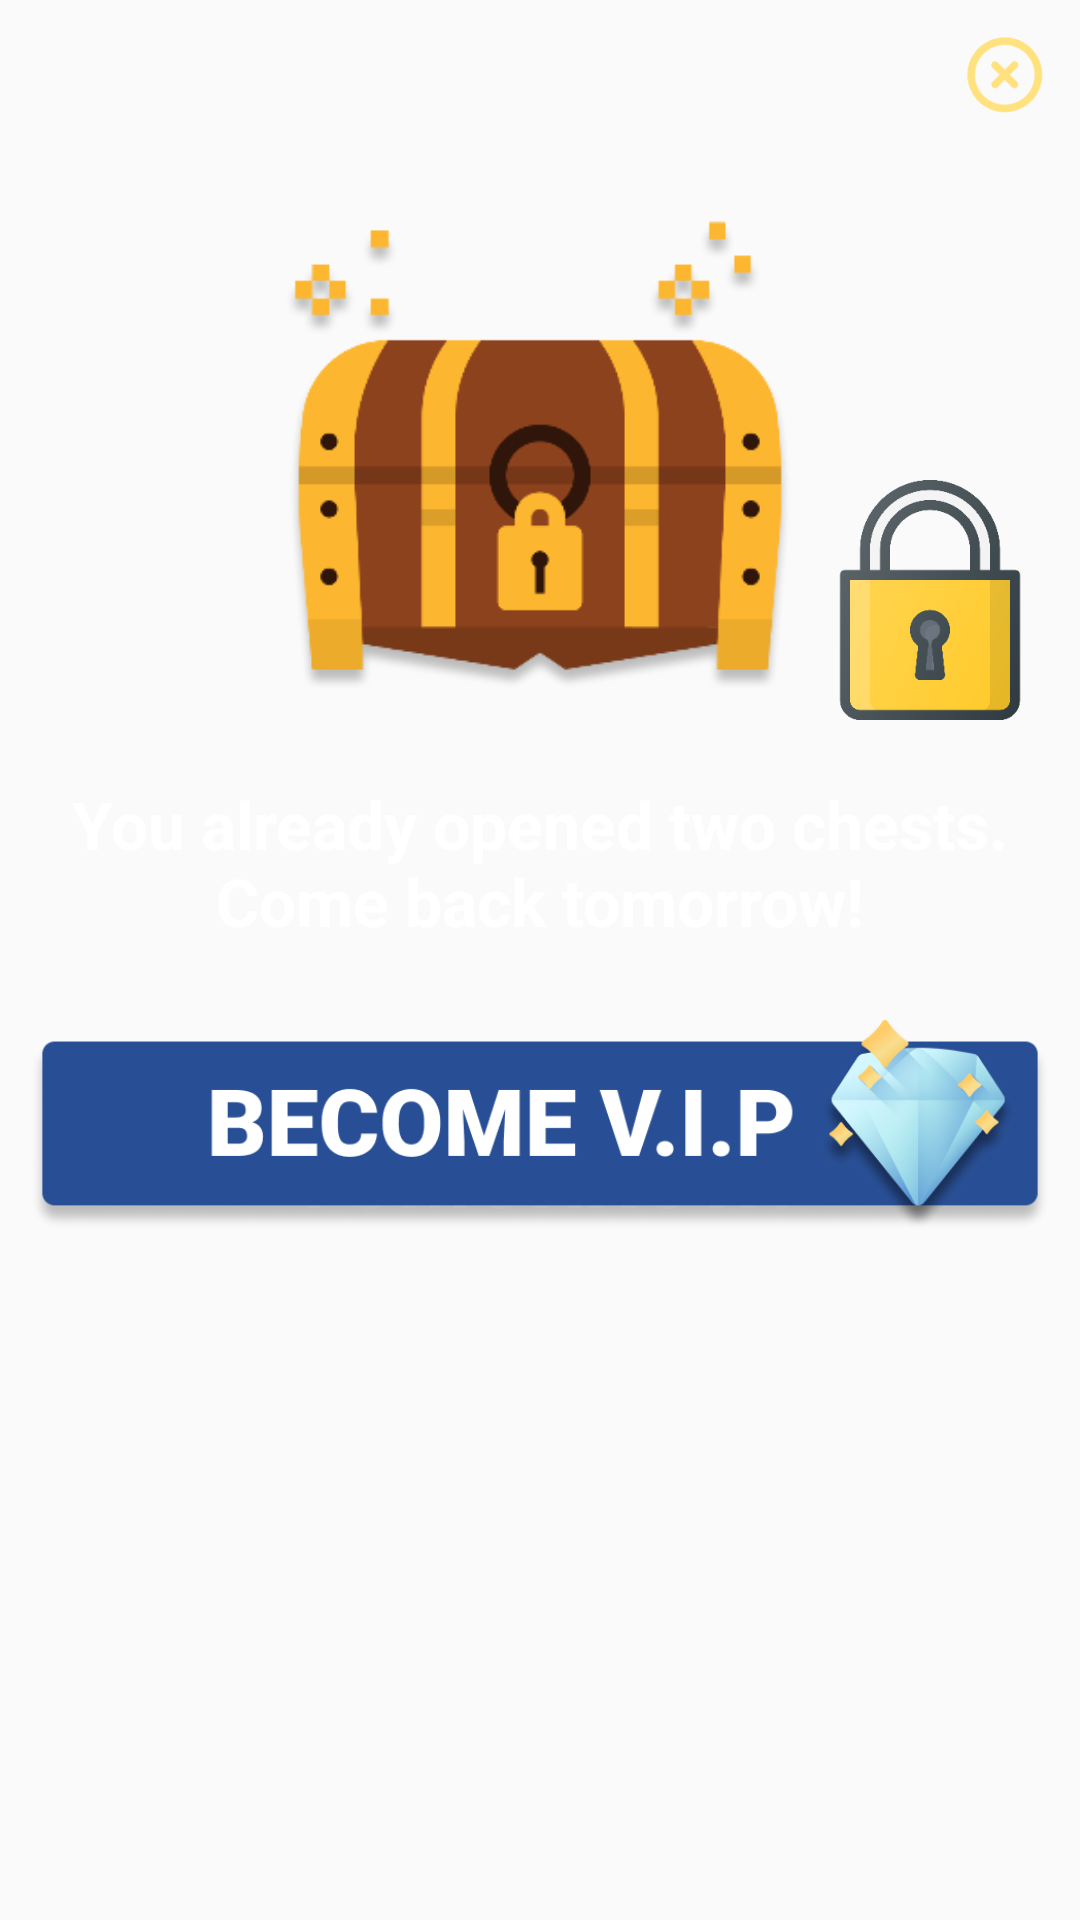

Screen size 1080×1920. Icon name, then its box in pixels as (x1, y1, x2, y2):
exit: (967, 37, 1043, 113)
lock: (839, 480, 1021, 720)
